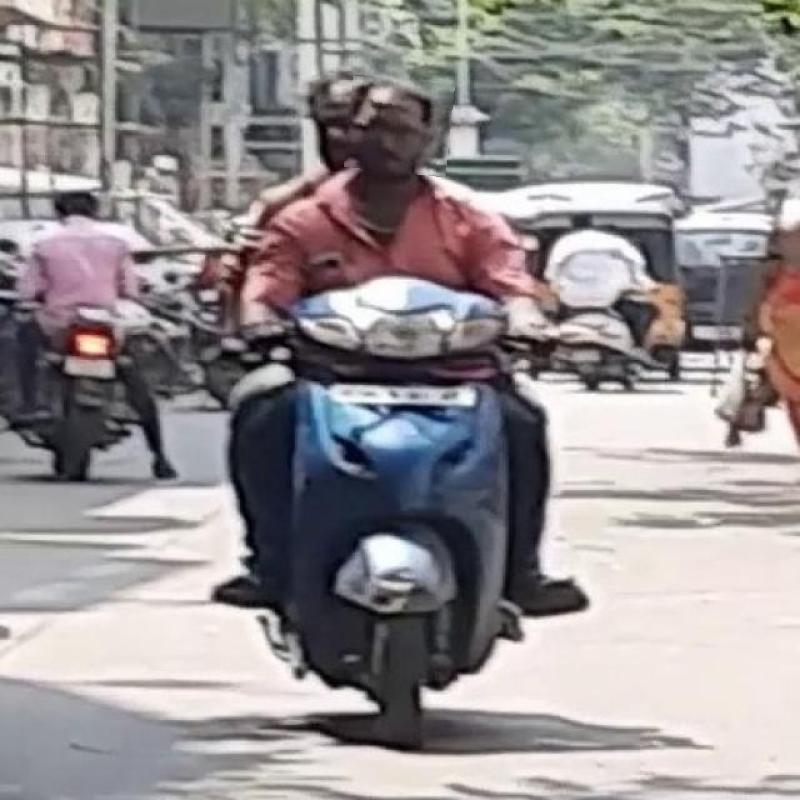nohelmet: (346, 76, 454, 174)
